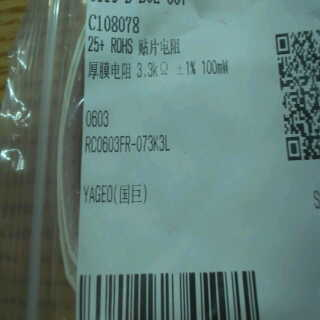3.3kO: (133, 58, 173, 84)
